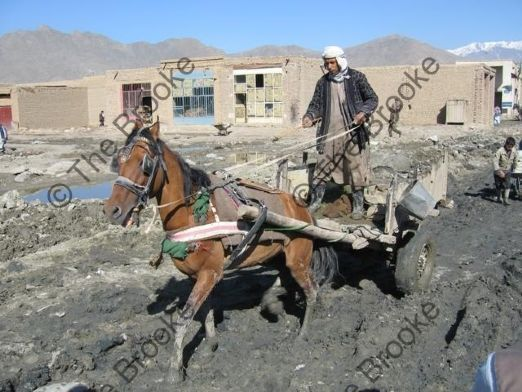horse: (100, 110, 342, 384)
